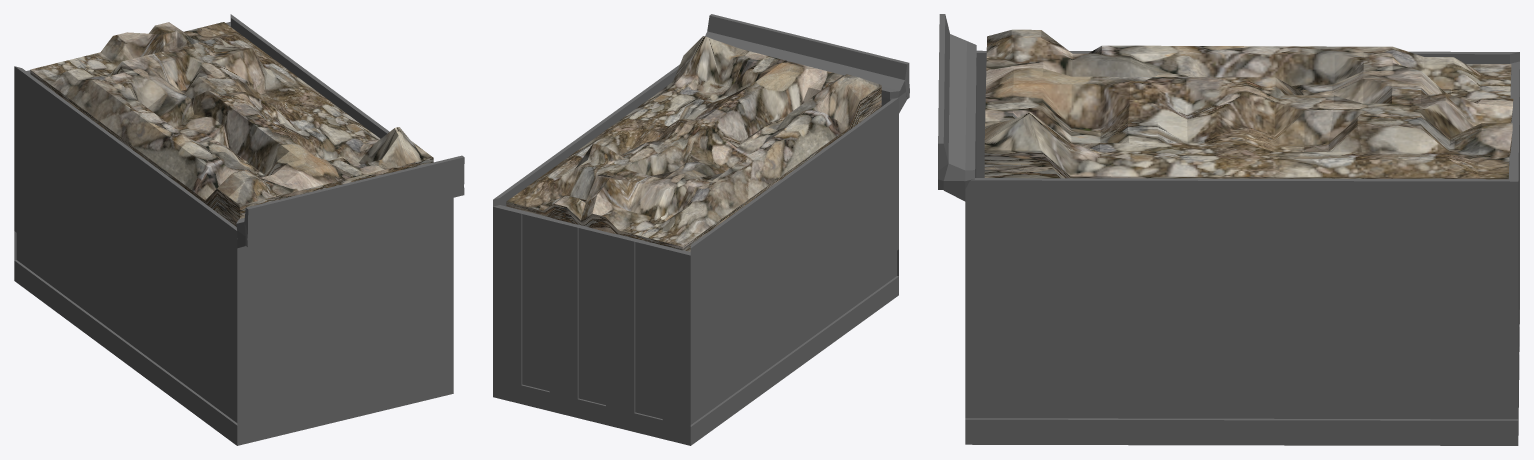
File: Caja.glb
3 renders of one model, left to right at view 1: azimuth 30°, elevation 25°; view 2: azimuth 150°, elevation 25°; view 3: azimuth 270°, elevation 25°, orthographic. The views are drawn at different scales.
Parts seen in each view (by area): view 1: Cube.002, Cube.013; view 2: Cube.002, Cube.013; view 3: Cube.002, Cube.013.
Boxes of the visible parts, bbox=[...] form: Cube.002: bbox=[14, 14, 464, 445]; Cube.013: bbox=[30, 22, 433, 226]; Cube.002: bbox=[493, 14, 909, 445]; Cube.013: bbox=[506, 36, 881, 251]; Cube.002: bbox=[938, 14, 1519, 445]; Cube.013: bbox=[984, 29, 1513, 179].
Size of the model in its own units: 4.87 by 5.43 by 9.12.
Materials: 2 (1 with a texture image).
